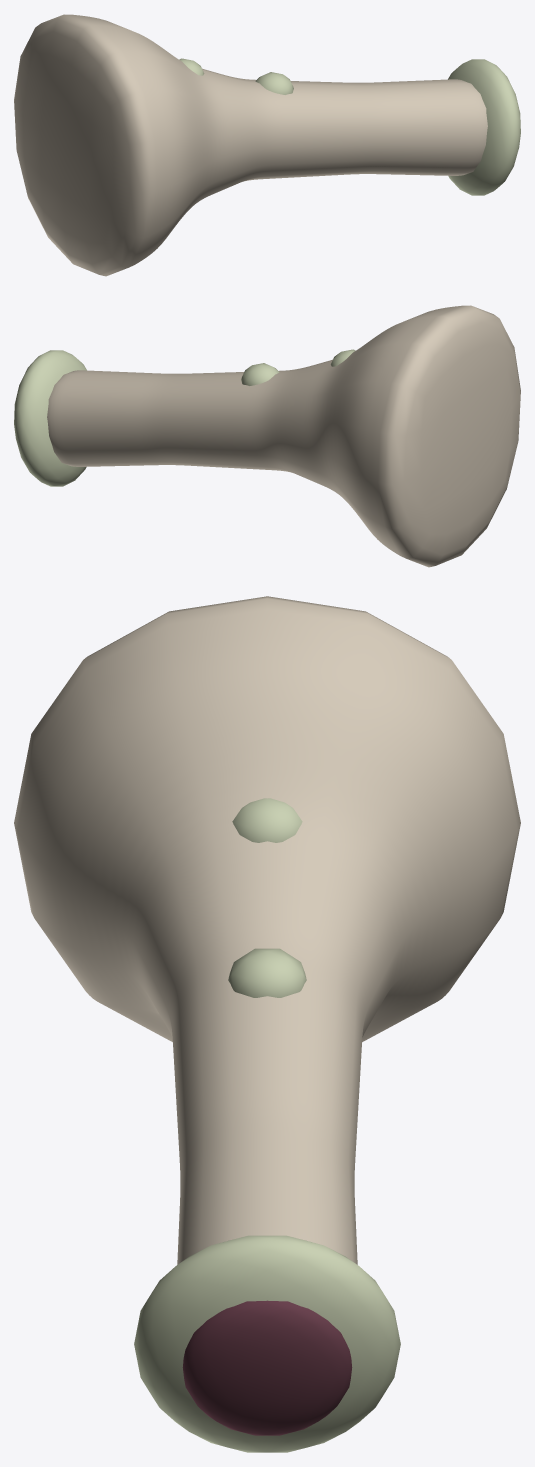
Rendered from creature.tubesnout.glb.
3 views of the same model, one above another, from view 1: azimuth 30°, elevation 25°; view 2: azimuth 150°, elevation 25°; view 3: azimuth 270°, elevation 25° (orthographic). The views are drawn at different scales.
Visible parts, largest first — view 1: Skin, ShellRim; view 2: Skin, ShellRim; view 3: Skin, ShellRim, Dark.
Part boxes in pixels (bbox=[...]): Skin: bbox=[14, 14, 487, 276]; ShellRim: bbox=[179, 58, 520, 195]; Skin: bbox=[47, 305, 520, 567]; ShellRim: bbox=[14, 349, 355, 486]; Skin: bbox=[14, 596, 520, 1264]; ShellRim: bbox=[134, 798, 400, 1452]; Dark: bbox=[182, 1300, 352, 1435].
Bounding box in the file's own units: 3.35 × 1.85 × 1.71.
